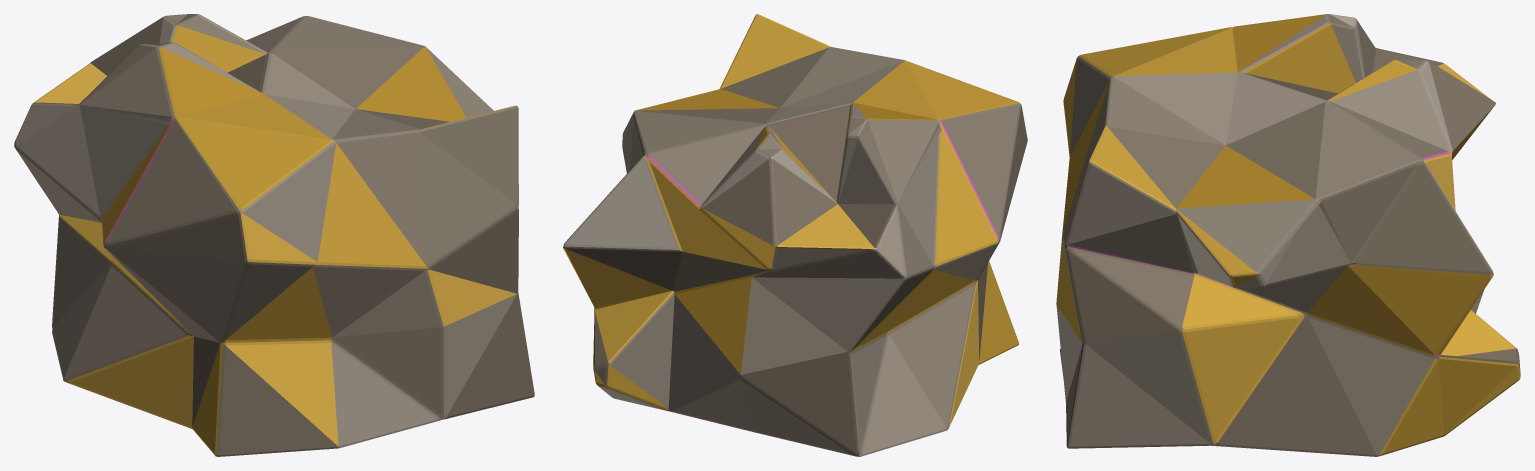
File: MineableGold_a.fbx
3 views of the same model, side by side, from view 1: azimuth 30°, elevation 25°; view 2: azimuth 150°, elevation 25°; view 3: azimuth 270°, elevation 25° (orthographic). The views are drawn at different scales.
Parts seen in each view (by area): view 1: MineableGold_a; view 2: MineableGold_a; view 3: MineableGold_a.
Part boxes in pixels (bbox=[...]): MineableGold_a: bbox=[14, 14, 534, 456]; MineableGold_a: bbox=[563, 14, 1027, 456]; MineableGold_a: bbox=[1056, 14, 1520, 456].
Size of what is drawn, in the model's own units: 0.7953 by 0.5988 by 0.7986.
